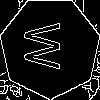W: (25, 22, 69, 69)
